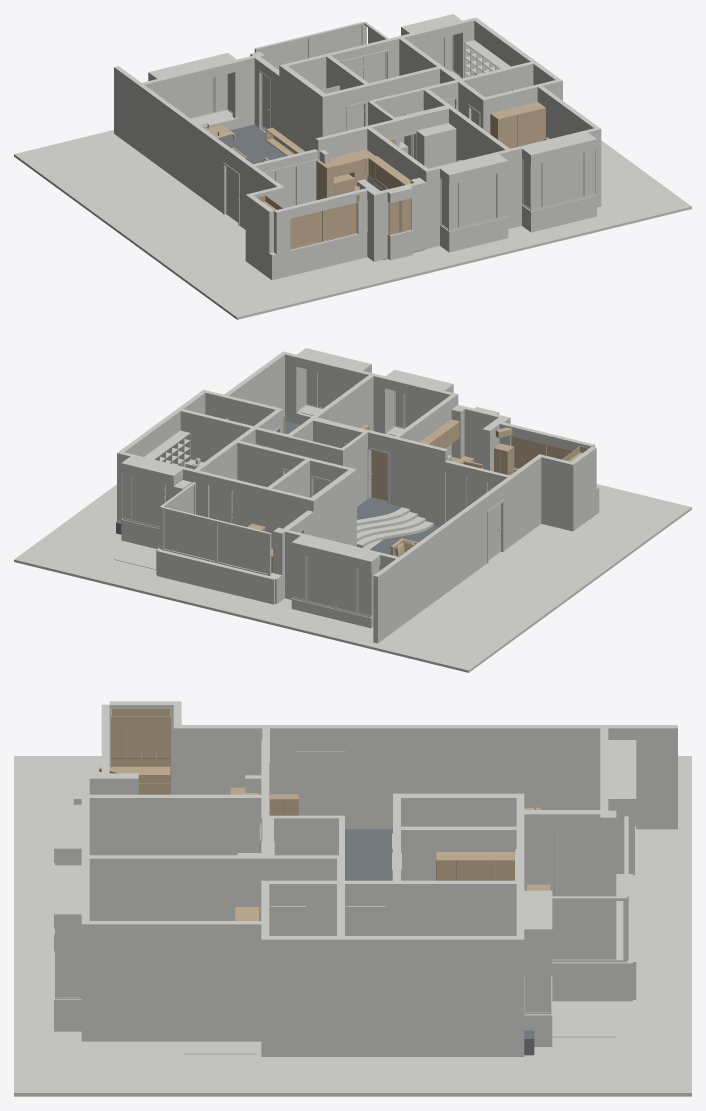
Rendered from interaction_proxy.glb.
3 renders of one model, top to bottom at view 1: azimuth 30°, elevation 25°; view 2: azimuth 150°, elevation 25°; view 3: azimuth 270°, elevation 25°, orthographic. The views are drawn at different scales.
Visible parts, largest first — view 1: SITE_GROUND.001, VIEW_WALL_W_wall_md_0006.001, VIEW_WALL_LIVING_FIX_GUEST_BATH_FULL_WALL.001, VIEW_WALL_W_wall_md_0042.001, VIEW_WALL_W_wall_md_0035.001, V4_W-MB-S_FRONT_GLASS_1.001, VIEW_WALL_W_wall_md_0034.001, V4_W-SMB-S_FRONT_GLASS_1.001, VIEW_WALL_W_wall_md_0007.001, VIEW_WALL_W_wall_md_0021.001, VIEW_WALL_W_wall_md_0030.001, VIEW_WALL_W_wall_md_0060.001 (+46 smaller); view 2: SITE_GROUND.001, VIEW_WALL_W_wall_md_0006.001, VIEW_WALL_W_wall_md_0062.001, VIEW_WALL_W_wall_md_0044.001, VIEW_WALL_W_wall_md_0005.001, VIEW_WALL_W_wall_md_0043.001, VIEW_WALL_LIVING_FIX_GUEST_BATH_FULL_WALL.001, LIVING_FIX_BAY_FRONT_GLASS_1.001, VIEW_WALL_W_wall_md_0049.001, NORTH_BALCONY_GLASS_NORTH_B.001, VIEW_WALL_W_wall_md_0007.001, NORTH_BALCONY_GLASS_NORTH_A.001 (+50 smaller); view 3: SITE_GROUND.001, VIEW_WALL_W_wall_md_0030.001, VIEW_WALL_W_wall_md_0033.001, VIEW_WALL_W_wall_md_0006.001, VIEW_WALL_W_wall_md_0021.001, VIEW_WALL_W_wall_md_0015.001, VIEW_WALL_W_wall_md_0032.001, VIEW_WALL_W_wall_md_0005.001, VIEW_WALL_W_wall_md_0025.001, VIEW_WALL_W_wall_md_0007.001, VIEW_WALL_W_wall_md_0019.001, VIEW_WALL_LIVING_FIX_GUEST_BATH_FULL_WALL.001 (+38 smaller).
Boxes of the visible parts, x1=… form: SITE_GROUND.001: x1=14, y1=128, x2=691, y2=319; VIEW_WALL_W_wall_md_0006.001: x1=139, y1=85, x2=227, y2=212; VIEW_WALL_LIVING_FIX_GUEST_BATH_FULL_WALL.001: x1=282, y1=66, x2=325, y2=153; VIEW_WALL_W_wall_md_0042.001: x1=276, y1=232, x2=367, y2=278; VIEW_WALL_W_wall_md_0035.001: x1=533, y1=139, x2=594, y2=231; V4_W-MB-S_FRONT_GLASS_1.001: x1=543, y1=152, x2=583, y2=206; VIEW_WALL_W_wall_md_0034.001: x1=451, y1=161, x2=505, y2=251; V4_W-SMB-S_FRONT_GLASS_1.001: x1=460, y1=174, x2=496, y2=226; VIEW_WALL_W_wall_md_0007.001: x1=114, y1=66, x2=141, y2=150; VIEW_WALL_W_wall_md_0021.001: x1=449, y1=107, x2=509, y2=161; VIEW_WALL_W_wall_md_0030.001: x1=537, y1=86, x2=598, y2=138; VIEW_WALL_W_wall_md_0060.001: x1=232, y1=55, x2=254, y2=128; SITE_GROUND.001: x1=14, y1=484, x2=691, y2=672; VIEW_WALL_W_wall_md_0006.001: x1=399, y1=495, x2=487, y2=624; VIEW_WALL_W_wall_md_0062.001: x1=157, y1=549, x2=277, y2=604; VIEW_WALL_W_wall_md_0044.001: x1=396, y1=437, x2=441, y2=526; VIEW_WALL_W_wall_md_0005.001: x1=499, y1=456, x2=541, y2=550; VIEW_WALL_W_wall_md_0043.001: x1=541, y1=455, x2=575, y2=531; VIEW_WALL_LIVING_FIX_GUEST_BATH_FULL_WALL.001: x1=311, y1=470, x2=354, y2=545; LIVING_FIX_BAY_FRONT_GLASS_1.001: x1=307, y1=556, x2=356, y2=612; VIEW_WALL_W_wall_md_0049.001: x1=180, y1=409, x2=253, y2=462; NORTH_BALCONY_GLASS_NORTH_B.001: x1=164, y1=510, x2=215, y2=560; VIEW_WALL_W_wall_md_0007.001: x1=373, y1=559, x2=400, y2=643; NORTH_BALCONY_GLASS_NORTH_A.001: x1=218, y1=523, x2=267, y2=573; SITE_GROUND.001: x1=14, y1=756, x2=691, y2=1096; VIEW_WALL_W_wall_md_0030.001: x1=89, y1=921, x2=261, y2=1041; VIEW_WALL_W_wall_md_0033.001: x1=345, y1=936, x2=516, y2=1056; VIEW_WALL_W_wall_md_0006.001: x1=345, y1=725, x2=600, y2=829; VIEW_WALL_W_wall_md_0021.001: x1=89, y1=855, x2=261, y2=920; VIEW_WALL_W_wall_md_0015.001: x1=89, y1=794, x2=261, y2=855; VIEW_WALL_W_wall_md_0032.001: x1=261, y1=936, x2=336, y2=1056; VIEW_WALL_W_wall_md_0005.001: x1=181, y1=725, x2=296, y2=794; VIEW_WALL_W_wall_md_0025.001: x1=401, y1=880, x2=516, y2=935; VIEW_WALL_W_wall_md_0007.001: x1=608, y1=725, x2=677, y2=829; VIEW_WALL_W_wall_md_0019.001: x1=401, y1=826, x2=516, y2=880; VIEW_WALL_LIVING_FIX_GUEST_BATH_FULL_WALL.001: x1=401, y1=793, x2=516, y2=826.
Size of the model in its own units: 20 by 3.37 by 17.
